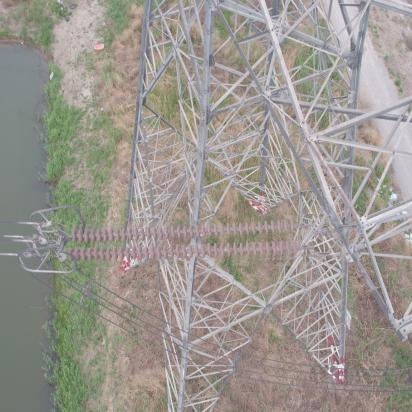insulator: (60, 219, 315, 267)
